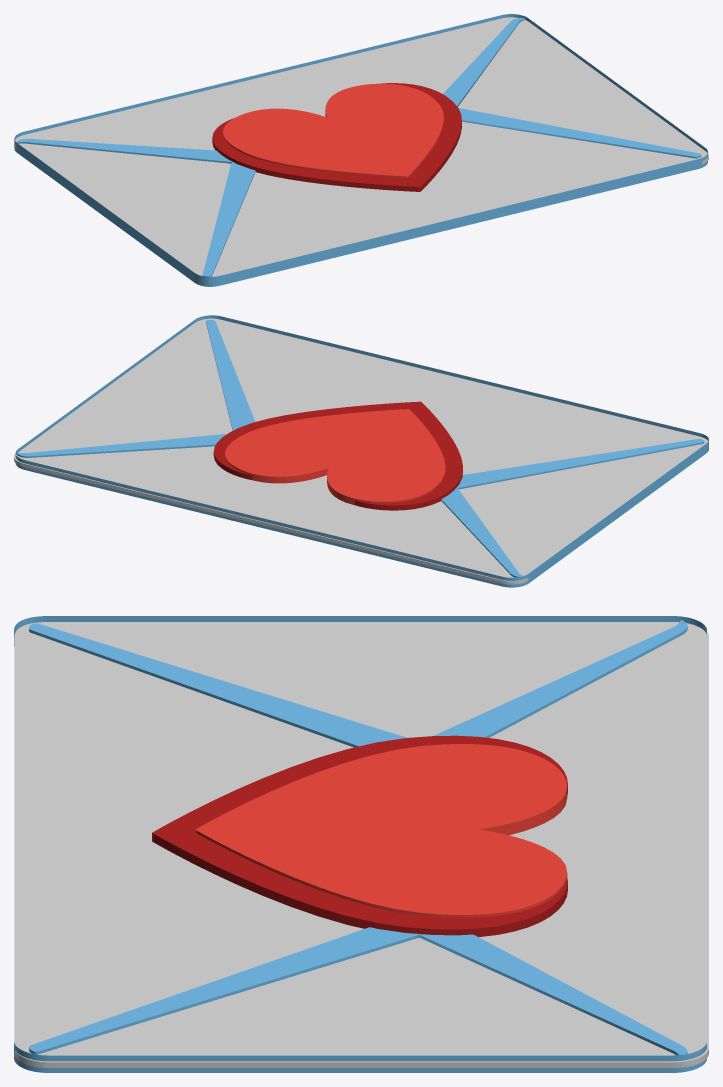
The model's file is emoji_u1f48c.glb.
3 renders of one model, top to bottom at view 1: azimuth 30°, elevation 25°; view 2: azimuth 150°, elevation 25°; view 3: azimuth 270°, elevation 25°, orthographic. The views are drawn at different scales.
Parts seen in each view (by area): view 1: emoji_u1f48c; view 2: emoji_u1f48c; view 3: emoji_u1f48c.
Boxes of the visible parts, x1=… form: emoji_u1f48c: x1=14, y1=14, x2=708, y2=286; emoji_u1f48c: x1=14, y1=315, x2=708, y2=587; emoji_u1f48c: x1=14, y1=616, x2=708, y2=1072.
Bounding box in the file's own units: 0.0324 × 0.001 × 0.0216.
